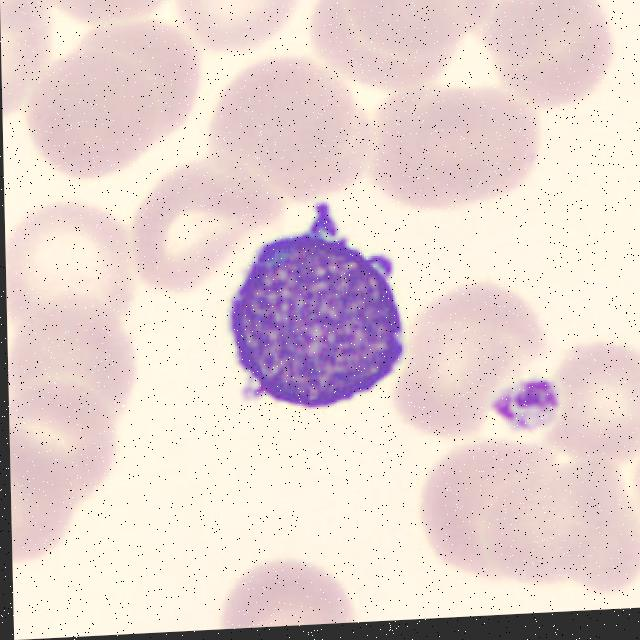lymphocyte: (210, 208, 441, 429)
platelets: (491, 379, 563, 438)
rbc: (206, 55, 395, 201), (362, 85, 536, 227), (126, 166, 280, 307), (386, 316, 540, 440), (410, 432, 529, 584), (305, 0, 478, 98), (8, 292, 137, 423), (527, 324, 640, 473), (24, 62, 155, 189), (426, 265, 559, 388), (66, 23, 195, 149), (485, 18, 625, 127), (5, 198, 121, 324), (205, 536, 353, 630), (9, 380, 123, 501), (546, 457, 640, 599), (470, 467, 566, 605), (9, 415, 83, 563), (464, 0, 608, 66), (0, 0, 61, 113), (178, 0, 296, 47), (44, 0, 175, 39), (218, 603, 361, 629), (576, 0, 577, 4)
